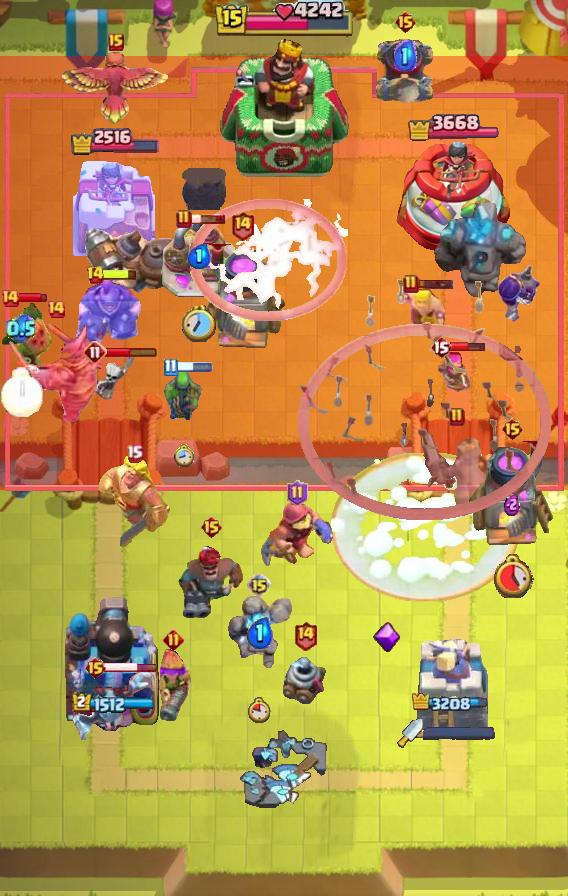archer: (398, 283, 450, 329)
baby-dragon: (182, 168, 226, 210)
bar: (416, 637, 490, 731)
barbarian-evolution: (190, 199, 348, 321)
bomb-tower: (152, 645, 194, 725)
cannon: (437, 352, 475, 396)
cannoneer-tower: (434, 203, 530, 301)
clock: (213, 0, 355, 40)
electro-spirit: (6, 314, 36, 344), (246, 617, 273, 649), (395, 41, 418, 71), (189, 243, 212, 268), (504, 492, 520, 516)
elixir: (0, 367, 43, 417), (490, 553, 533, 598), (182, 305, 216, 343), (248, 697, 271, 723), (174, 443, 195, 467)
elixir-golem-small: (70, 668, 156, 746)
emote: (105, 346, 158, 358), (104, 663, 158, 674), (102, 268, 138, 281), (418, 278, 455, 290), (190, 213, 226, 225), (12, 292, 48, 304), (450, 341, 486, 352), (175, 362, 213, 372)
fireball: (258, 497, 336, 571)
giant-snowball: (163, 366, 203, 424)
goblin-ball: (498, 257, 542, 323)
goblin-barrel: (0, 301, 56, 373)
goblin-drill: (282, 650, 328, 704)
goblin-hut: (96, 455, 172, 551)
golden-knight: (60, 50, 172, 128)
golemite: (6, 318, 106, 426)
heal-spirit: (93, 353, 135, 405)
hunter: (197, 244, 287, 352), (467, 441, 557, 549)
king-tower: (218, 37, 350, 181)
king-tower-bar: (423, 726, 495, 740)
mortar-evolution: (418, 429, 496, 509)
musketeer: (373, 38, 437, 104)
pekka: (160, 217, 238, 299)
phoenix-big: (330, 454, 522, 603)
phoenix-small: (176, 543, 246, 621)
queen-tower: (390, 137, 516, 255), (73, 156, 155, 256)
royal-guardian: (75, 274, 145, 348)
selected: (407, 110, 499, 146), (68, 126, 159, 156), (72, 692, 156, 714), (412, 693, 494, 715)
skeleton-barrel: (297, 277, 551, 521)
skeleton-king-skill: (373, 622, 401, 654)
text: (229, 210, 254, 241), (293, 620, 318, 651), (83, 340, 107, 364), (247, 573, 271, 597), (395, 10, 418, 34), (500, 417, 523, 441), (200, 515, 223, 539), (84, 656, 107, 680), (288, 480, 309, 506), (430, 335, 452, 359), (163, 630, 185, 651), (86, 265, 106, 285), (0, 288, 20, 308), (46, 299, 66, 319), (125, 444, 142, 463), (176, 209, 192, 229), (403, 274, 419, 294), (449, 407, 465, 427), (108, 33, 124, 51), (163, 358, 178, 377)
tower-bar: (65, 593, 163, 731)
valkyrie-evolution: (222, 593, 296, 675)
wizard: (81, 225, 193, 295)
